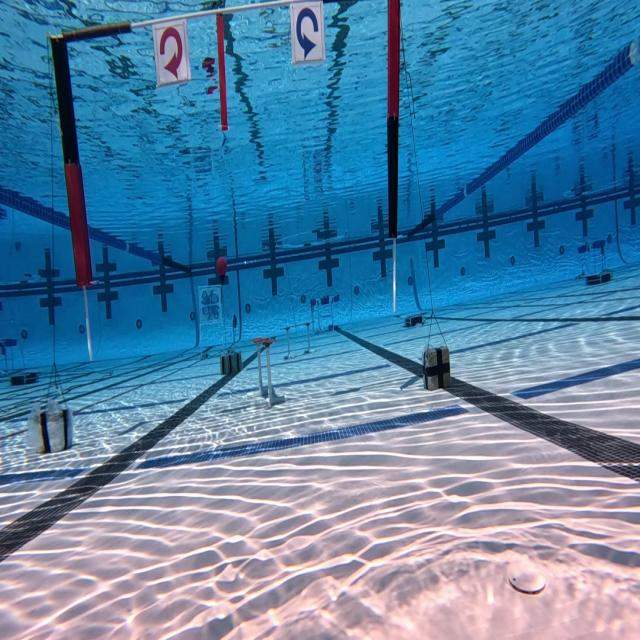blue_side: (290, 0, 326, 67)
red_side: (151, 15, 192, 86)
